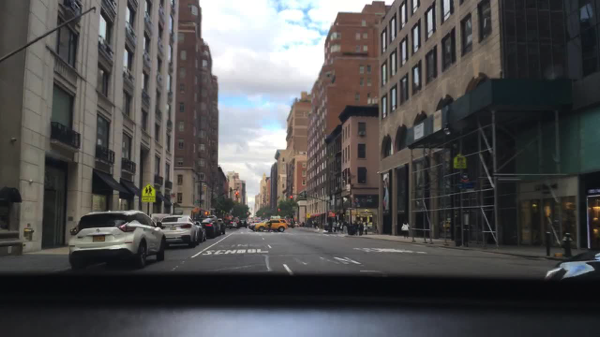bus: (353, 209, 374, 229)
car: (67, 209, 165, 271), (545, 245, 599, 284), (158, 215, 199, 247), (194, 216, 221, 237), (249, 220, 286, 232), (191, 222, 207, 242), (216, 218, 228, 235), (283, 218, 296, 229), (247, 220, 259, 228), (238, 220, 247, 229), (228, 222, 237, 229)
person: (400, 220, 410, 239), (352, 220, 358, 234), (266, 220, 272, 232), (362, 222, 367, 235), (332, 219, 337, 232), (358, 220, 362, 236), (300, 220, 305, 228), (310, 219, 314, 228), (340, 220, 342, 233), (298, 221, 301, 229), (337, 219, 339, 231)
traffic light: (564, 203, 575, 213), (330, 212, 338, 218), (202, 185, 207, 192), (261, 197, 266, 203), (261, 212, 267, 217), (234, 190, 238, 197), (289, 193, 293, 200), (205, 211, 210, 216), (245, 211, 250, 216), (276, 208, 282, 212)
traffic sign: (142, 185, 156, 202), (453, 154, 466, 168), (460, 183, 472, 190), (460, 174, 468, 182), (346, 184, 351, 193), (346, 206, 355, 210), (354, 196, 360, 202), (228, 209, 233, 215), (306, 212, 310, 219), (193, 199, 200, 203), (356, 203, 360, 210)
